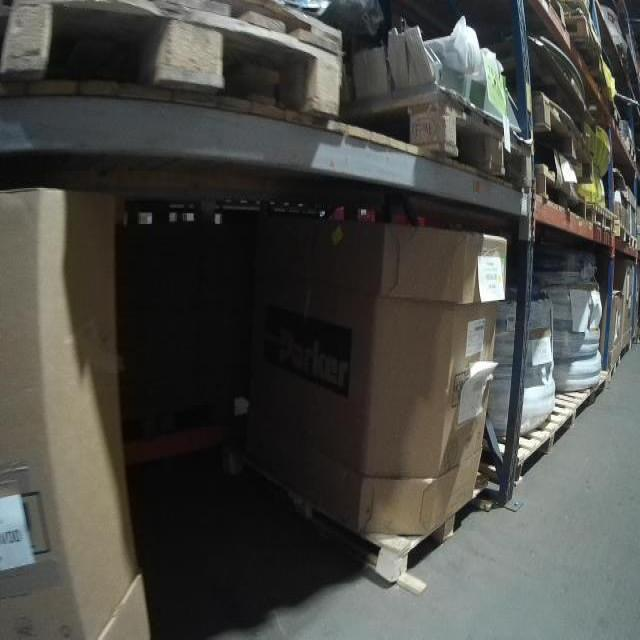pallet: (2, 3, 348, 124), (352, 82, 512, 175), (346, 483, 481, 593), (531, 87, 612, 180), (474, 415, 574, 484), (535, 162, 588, 221), (549, 370, 607, 419), (565, 10, 603, 69), (589, 198, 619, 236), (607, 97, 625, 134), (605, 353, 621, 381), (618, 223, 632, 250), (632, 234, 639, 252)
